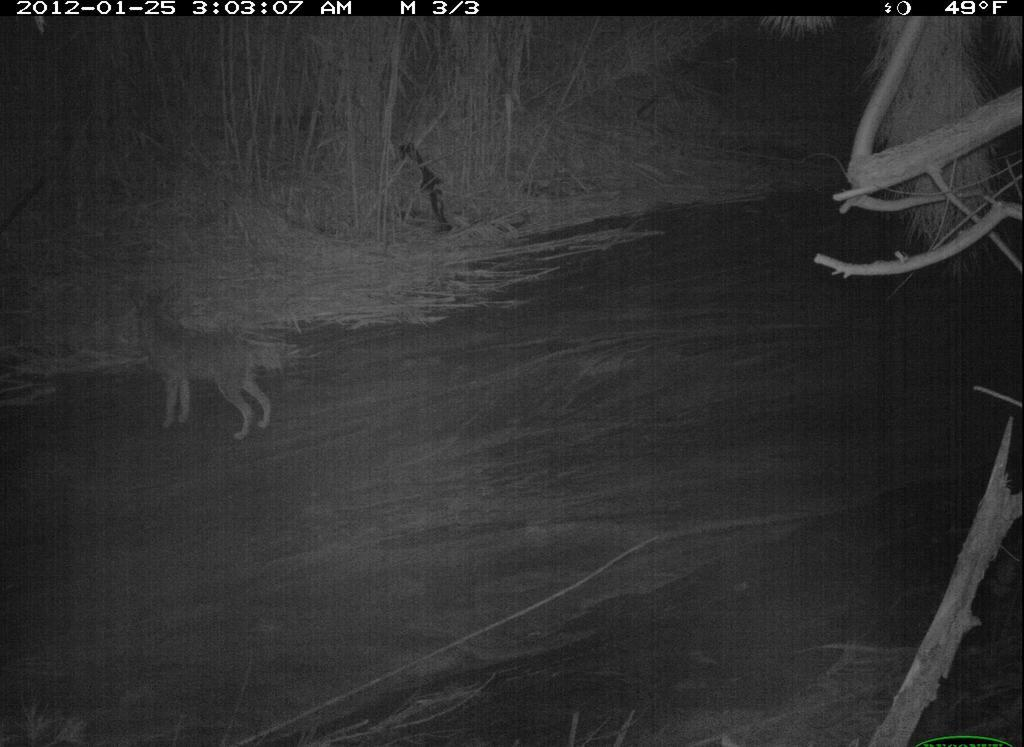coyote: (127, 287, 279, 445)
